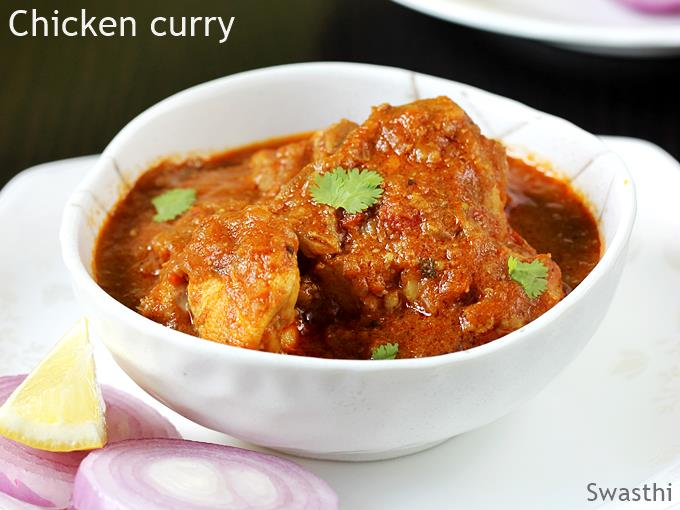chicken_curry: (159, 118, 614, 350)
